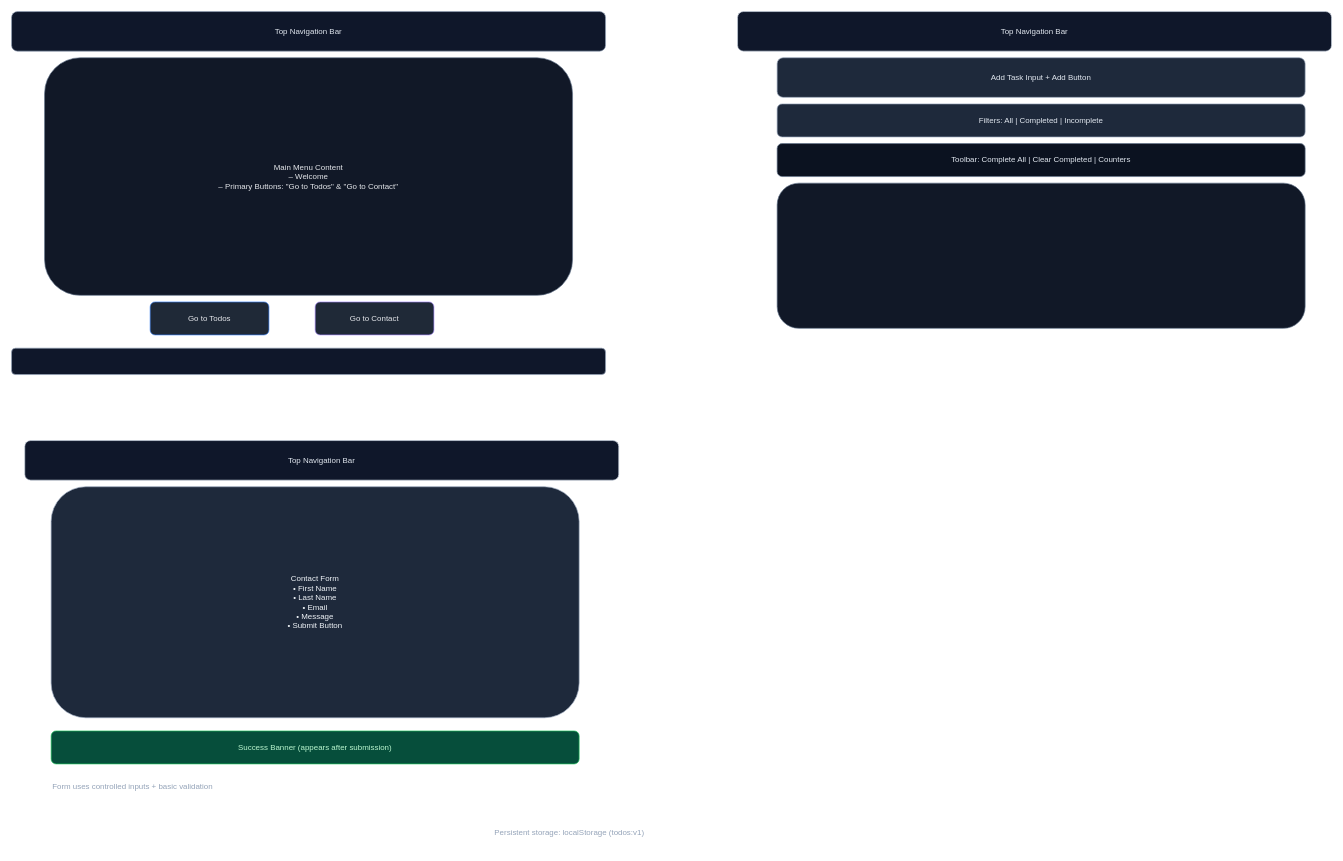
The diagram is 1343 pixels wide and 861 high, and some of its shapes have lost their labels. Here are the shapes that lost their labels. From the top down, the centre of each, then its label:
[1040,255]: Task List (Todo Items) • Checkbox, text, edit/delete • Inline edit (Enter/Esc)
[308,361]: Footer
